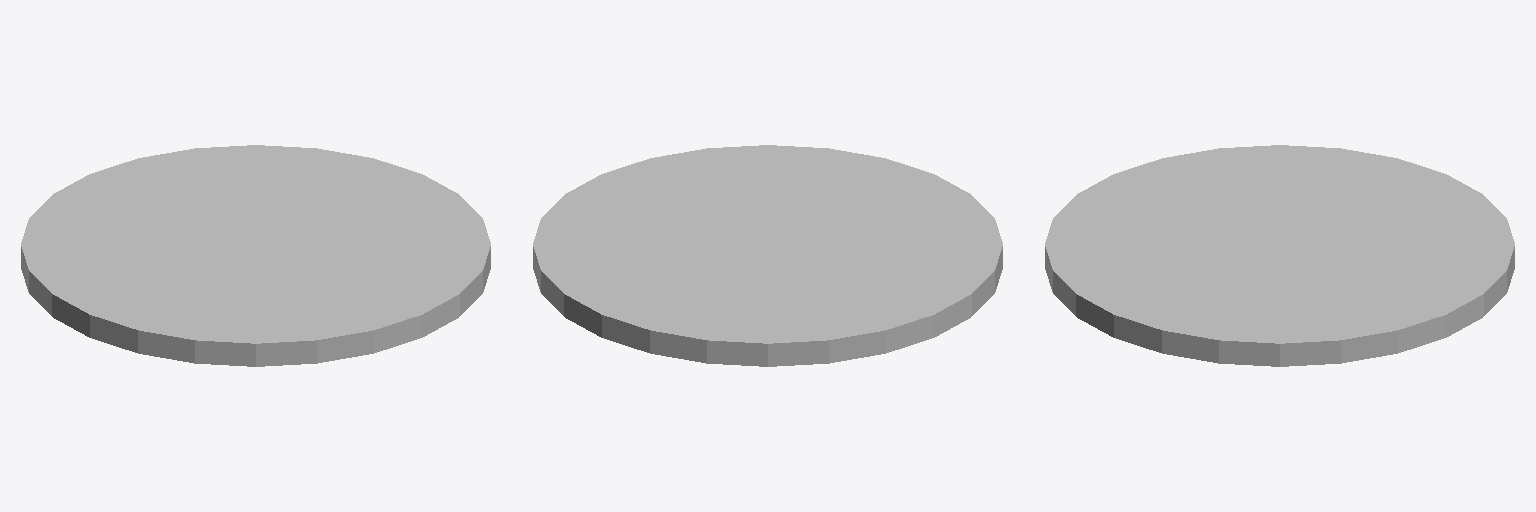
The model's file is hotplate_2.obj.
3 views of the same model, side by side, from view 1: azimuth 30°, elevation 25°; view 2: azimuth 150°, elevation 25°; view 3: azimuth 270°, elevation 25° (orthographic).
Parts seen in each view (by area): view 1: hot_plate_2 stovetop; view 2: hot_plate_2 stovetop; view 3: hot_plate_2 stovetop.
Boxes of the visible parts, <box> form: hot_plate_2 stovetop: <box>21,145,490,366</box>; hot_plate_2 stovetop: <box>533,145,1002,366</box>; hot_plate_2 stovetop: <box>1045,145,1514,366</box>.
Bounding box in the file's own units: 3.51 × 0.1917 × 3.51.